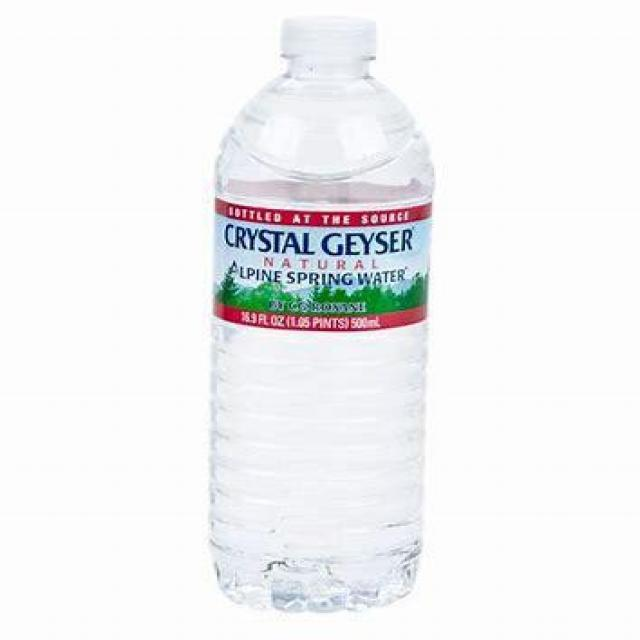bottle: (186, 9, 450, 622)
